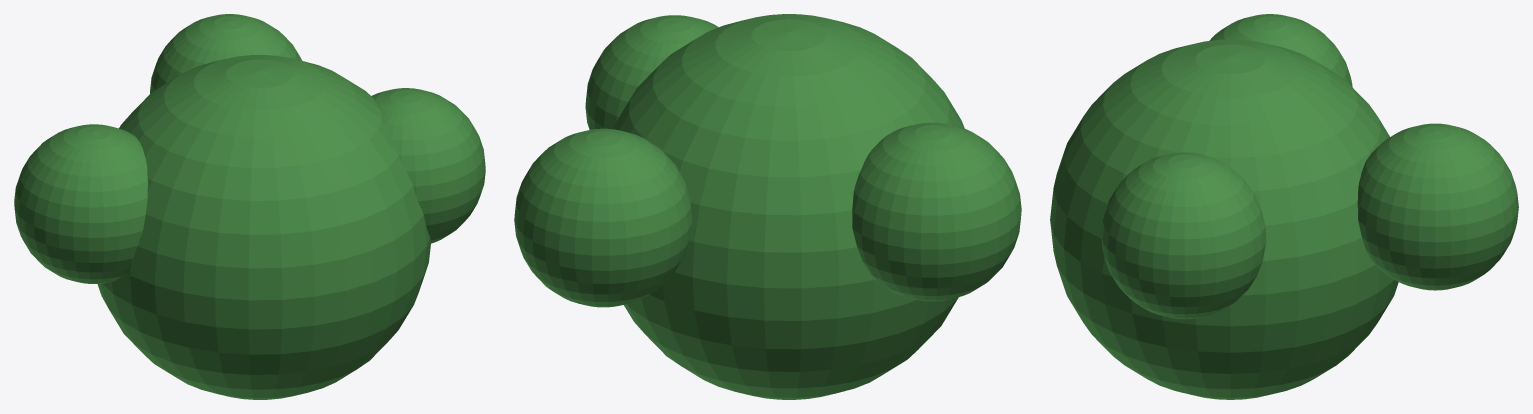
3 views of the same model, side by side, from view 1: azimuth 30°, elevation 25°; view 2: azimuth 150°, elevation 25°; view 3: azimuth 270°, elevation 25° (orthographic). The views are drawn at different scales.
Visible parts, largest first — view 1: Bush.001; view 2: Bush.001; view 3: Bush.001.
Boxes of the visible parts, x1,y1,x2,y2 form: Bush.001: (14,14,485,399); Bush.001: (514,14,1021,399); Bush.001: (1050,14,1518,399).
Bounding box in the file's own units: 200 × 189 × 146.
